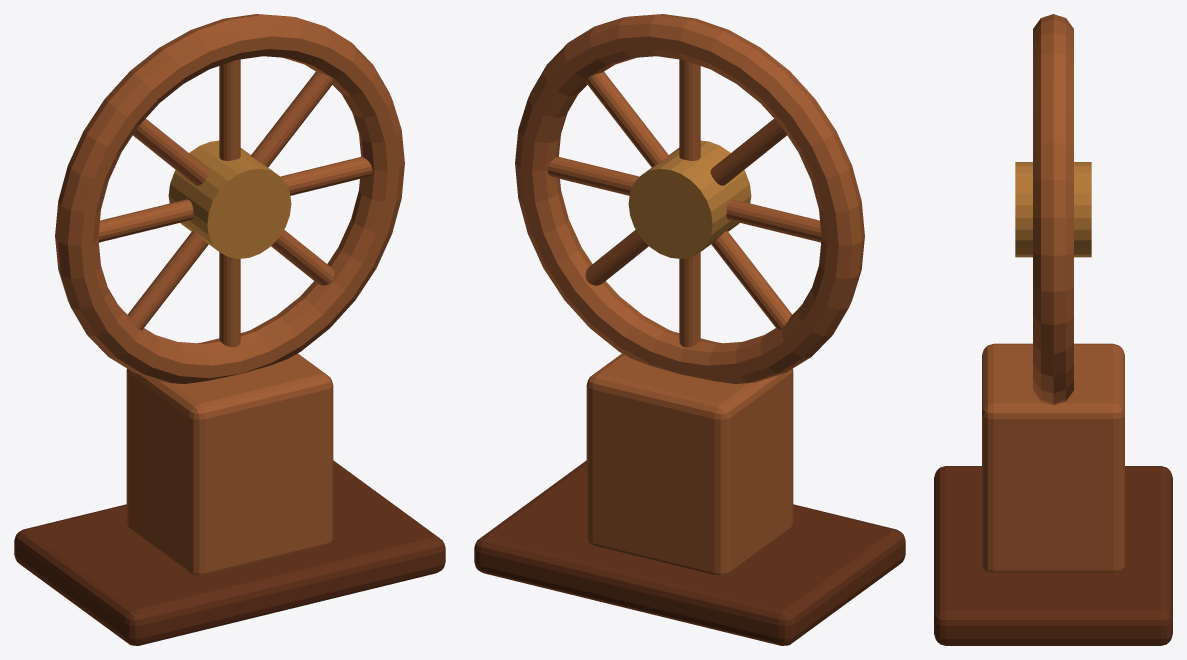
The model's file is SM_Naval_HelmWheel.fbx.
3 renders of one model, left to right at view 1: azimuth 30°, elevation 25°; view 2: azimuth 150°, elevation 25°; view 3: azimuth 270°, elevation 25°, orthographic.
Parts seen in each view (by area): view 1: SM_Naval_HelmWheel; view 2: SM_Naval_HelmWheel; view 3: SM_Naval_HelmWheel.
Part boxes in pixels (box(x1,y1,x2,y2)): SM_Naval_HelmWheel: box(14, 14, 445, 645); SM_Naval_HelmWheel: box(474, 14, 905, 645); SM_Naval_HelmWheel: box(934, 14, 1172, 645).
Bounding box in the file's own units: 0.82 × 1.25 × 0.5.
